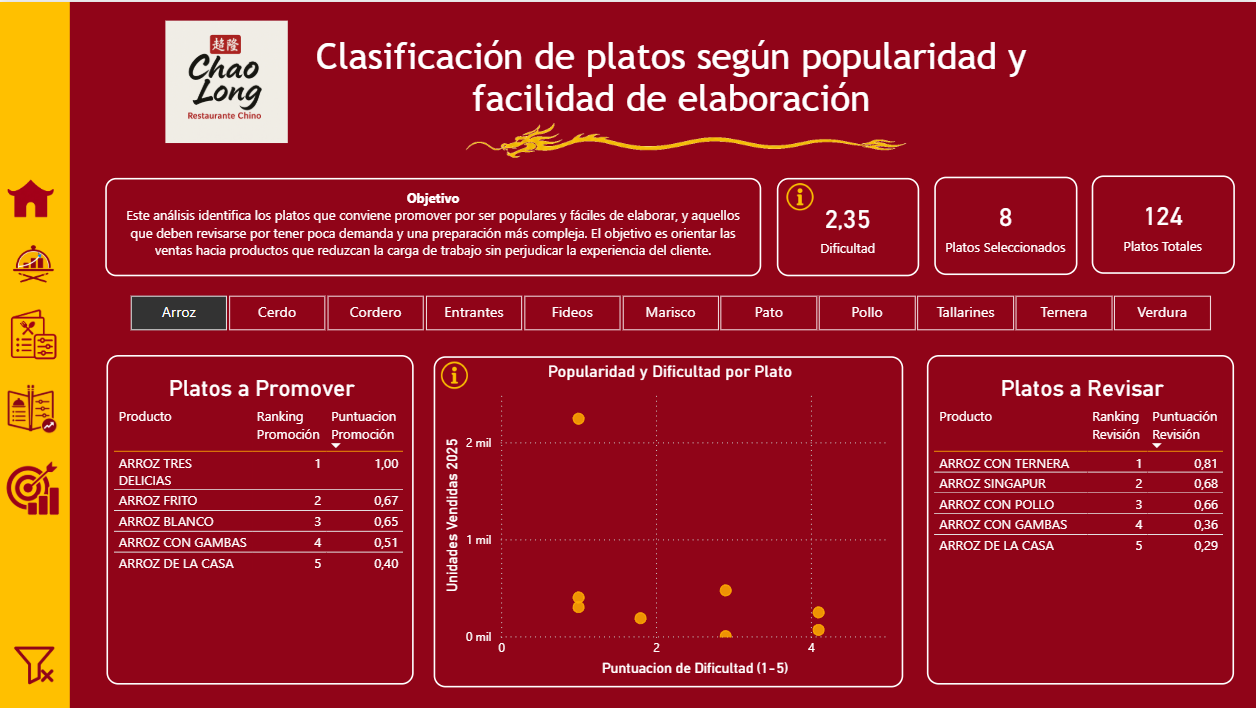

Layout of this report page (visuals, bound fields, positions):
{"tool":"powerbi","page":{"name":"Analisis de producto","canvas":[1280,720],"ordinal":2},"visuals":[{"type":"textbox","box":[285.9,10,797.4,130.4],"z":0},{"type":"shape","box":[0,0,74.3,719],"z":1000},{"type":"image","box":[464.6,111.2,470.5,58.5],"z":2000},{"type":"slicer","fields":{"Values":["Productos.Categoria"]},"box":[110.3,290.9,1147.2,48.9],"z":3000},{"type":"textbox","box":[110.3,179.3,667,100],"z":4000},{"type":"card","fields":{"Values":["Medidas Analisis.Platos Analizados"]},"box":[952,178,145.4,100],"z":5000},{"type":"image","box":[0,228.8,73.8,75],"z":6000},{"type":"scatterChart","title":"Popularidad y Dificultad por Plato","fields":{"X":["Productos.Weighted Difficulty Score"],"Y":["Sum(Ventas.Unidades)"],"Category":["Productos.Producto"]},"box":[443.8,360,477.5,336.2],"z":6000,"group":"g2"},{"type":"image","box":[4.6,377.4,62.5,72.5],"z":7000},{"type":"card","fields":{"Values":["Productos.Dificultad media"]},"box":[792.2,178.9,145,99.7],"z":8000,"group":"g1"},{"type":"image","box":[3.3,452.5,65,82.5],"z":8000},{"type":"image","box":[5,170,58.8,58.8],"z":9000},{"type":"image","box":[0,303.6,73.8,71.2],"z":10000},{"type":"image","box":[443.8,360,42.5,38.8],"z":10000,"group":"g2"},{"type":"image","box":[166.2,10.5,134.6,141.6],"z":11000},{"type":"image","box":[792.2,178.9,47.9,38.8],"z":11000,"group":"g1"},{"type":"card","fields":{"Values":["Medidas Analisis.Platos Analizados"]},"box":[1112.1,176.8,145.4,100],"z":12000},{"type":"group","id":"g1","title":"Grupo 1","box":[792.2,178.9,145.2,99.9],"z":13000},{"type":"tableEx","title":"Platos a Promover","fields":{"Values":["Productos.Producto","Medidas Analisis.Ranking Promoción","Medidas Analisis.q Puntuación Promoción"]},"box":[111.2,358.8,312.5,335],"z":14000},{"type":"tableEx","title":"Platos a Revisar","fields":{"Values":["Productos.Producto","Medidas Analisis.Ranking Revisión","Medidas Analisis.q Puntuación Revisión"]},"box":[945,358.8,312.5,335],"z":15000},{"type":"group","id":"g2","title":"Grupo 2","box":[443.8,360,477.5,336.2],"z":16000},{"type":"image","box":[5.8,642.4,63.9,61.6],"z":17000}]}

Visuals, with their boxes on the page's 1280x720 design canvas (x1, y1, x2, y2). These are canvas units, not pixel positions in the 1256x708 screenshot, which may show the page scaled, cropped or inside an application window:
textbox: 286, 10, 1083, 140
shape: 0, 0, 74, 719
image: 465, 111, 935, 170
slicer - Productos.Categoria: 110, 291, 1258, 340
textbox: 110, 179, 777, 279
card - Medidas Analisis.Platos Analizados: 952, 178, 1097, 278
image: 0, 229, 74, 304
"Popularidad y Dificultad por Plato" scatterChart: 444, 360, 921, 696
image: 5, 377, 67, 450
card - Productos.Dificultad media: 792, 179, 937, 279
image: 3, 452, 68, 535
image: 5, 170, 64, 229
image: 0, 304, 74, 375
image: 444, 360, 486, 399
image: 166, 10, 301, 152
image: 792, 179, 840, 218
card - Medidas Analisis.Platos Analizados: 1112, 177, 1258, 277
"Grupo 1" group: 792, 179, 937, 279
"Platos a Promover" tableEx: 111, 359, 424, 694
"Platos a Revisar" tableEx: 945, 359, 1258, 694
"Grupo 2" group: 444, 360, 921, 696
image: 6, 642, 70, 704
